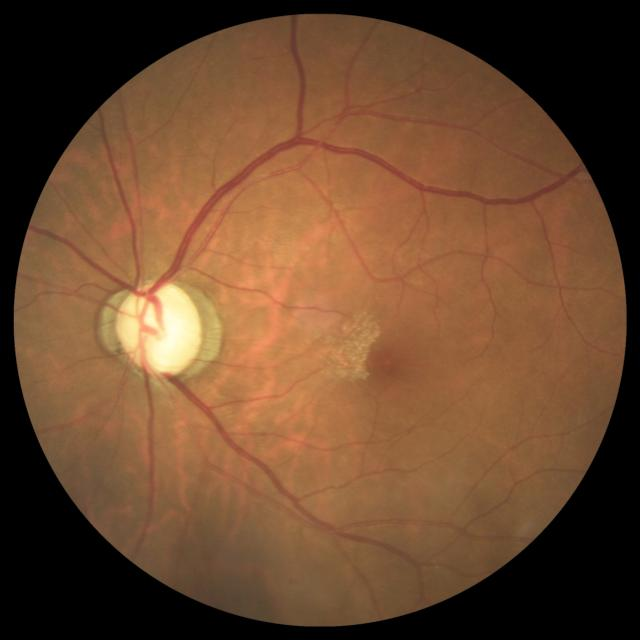OC: (124, 287, 197, 368)
OD: (116, 280, 200, 376)
